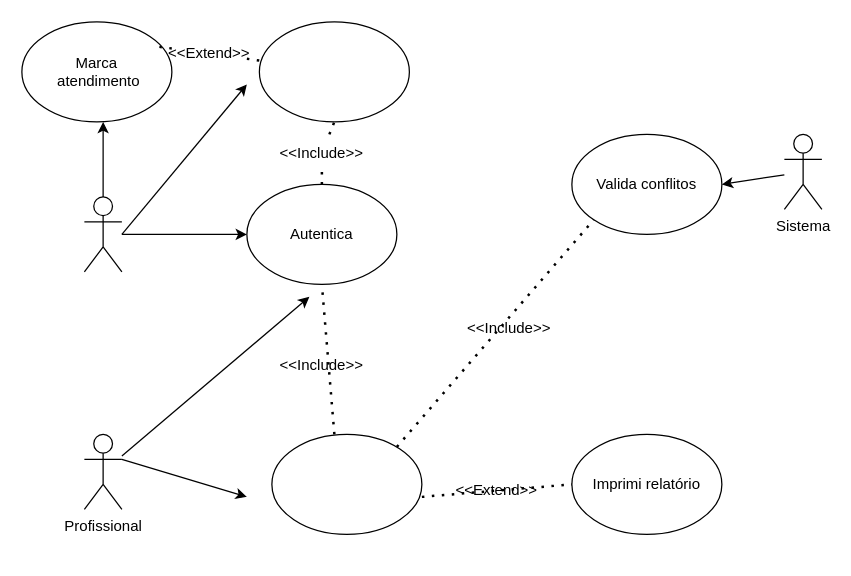
This 851x576 diagram has some shape labels left out. The shapes that lost their labels are listed below. From the top down, each one's box as (x1, y1, x2, y2) in pixels, then its label:
(258, 21, 409, 122): Visualiza atendimento
(83, 196, 122, 272): Cliente
(271, 433, 422, 534): Gerencia Atendimento
